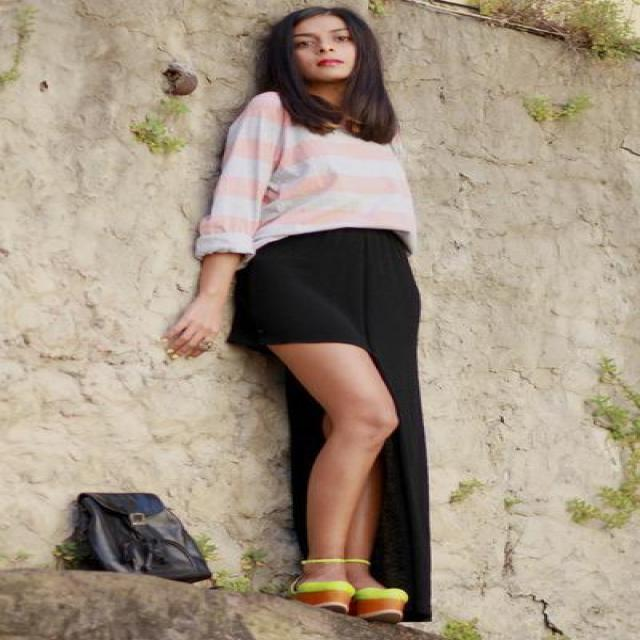bag: (56, 493, 216, 591)
shirt: (186, 92, 416, 257)
shoe: (259, 560, 406, 614)
skirt: (225, 227, 430, 624)
